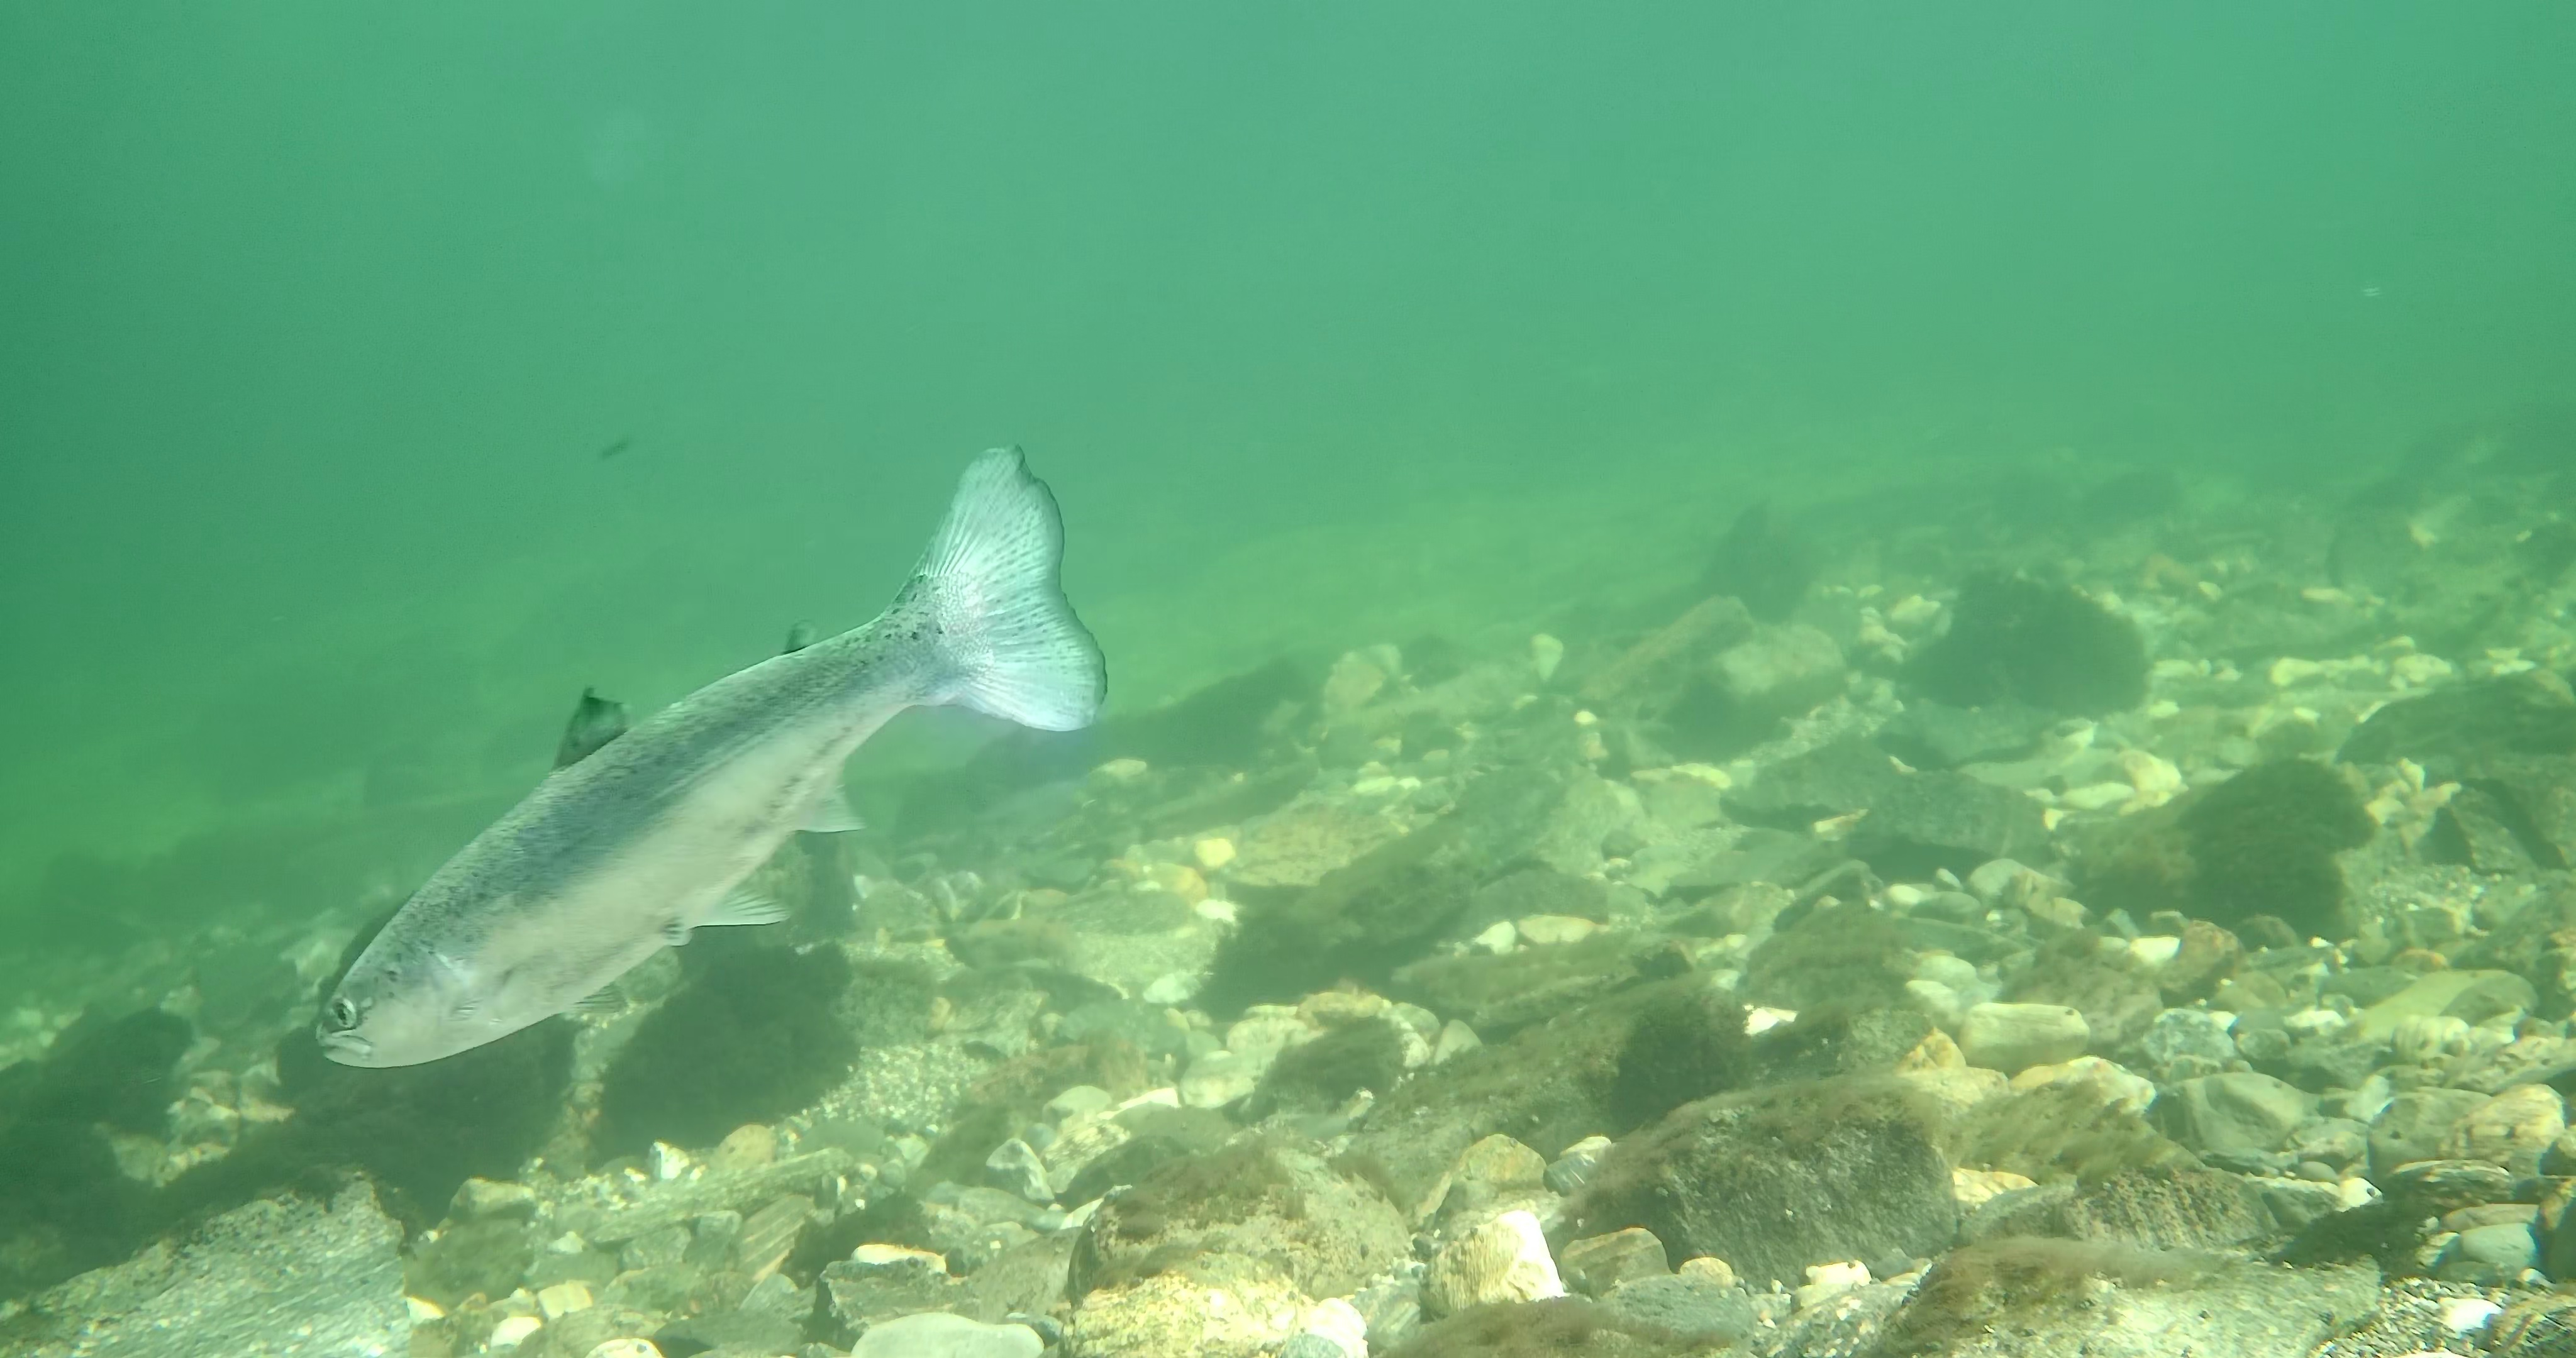salmon: (312, 440, 1113, 1072)
